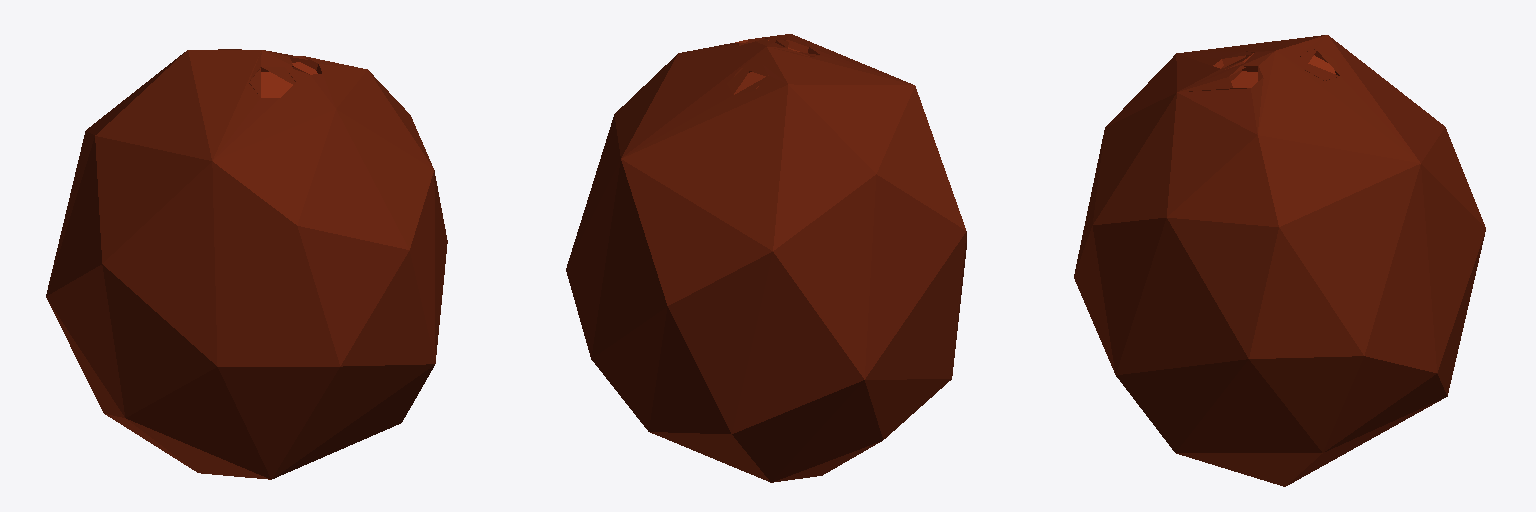
File: coconut.obj
The picture shows the model from 3 angles: view 1: azimuth 30°, elevation 25°; view 2: azimuth 150°, elevation 25°; view 3: azimuth 270°, elevation 25°; orthographic projection.
Visible parts, largest first — view 1: coconut; view 2: coconut; view 3: coconut.
Part boxes in pixels (left/top/right/bottom): coconut: left=46, top=49, right=447, bottom=479; coconut: left=566, top=34, right=966, bottom=482; coconut: left=1074, top=35, right=1485, bottom=486.
Size of the model in its own units: 1.6 by 1.79 by 1.62.